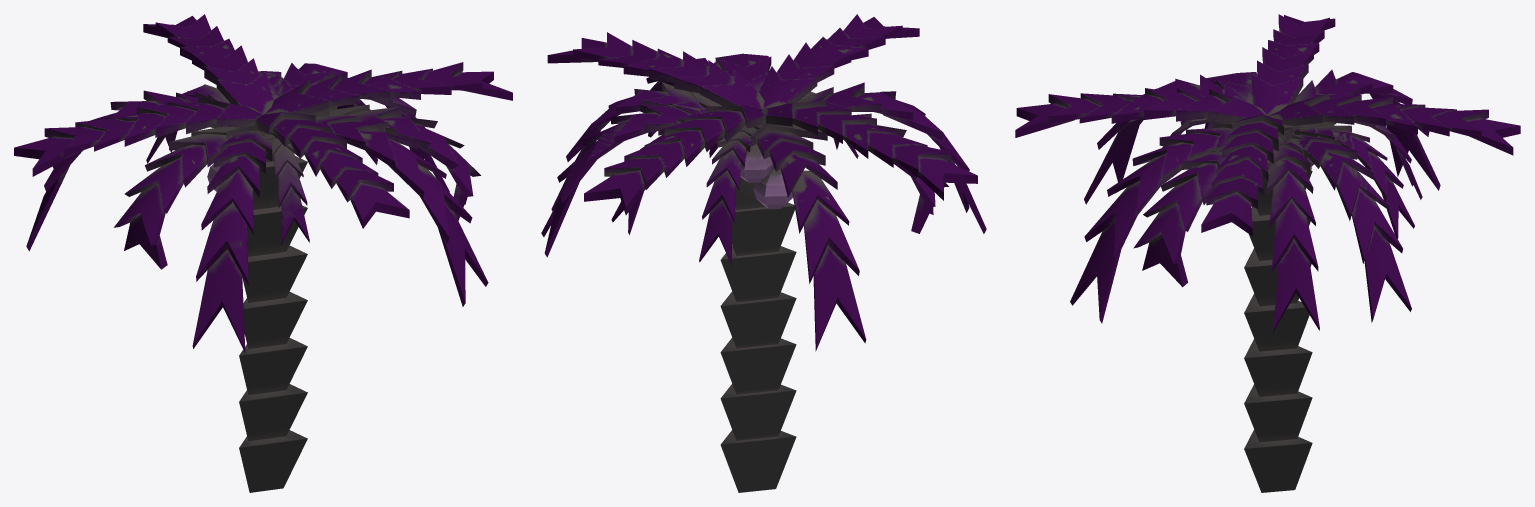
The model's file is palmtree.glb.
The picture shows the model from 3 angles, left to right: view 1: azimuth 30°, elevation 25°; view 2: azimuth 150°, elevation 25°; view 3: azimuth 270°, elevation 25°; orthographic projection.
Parts seen in each view (by area): view 1: palmtree; view 2: palmtree; view 3: palmtree.
Part boxes in pixels (x1,y1,x2,y2): palmtree: (14,14,512,492); palmtree: (541,14,986,492); palmtree: (1015,14,1520,492).
Size of the model in its own units: 5 by 4.2 by 5.
Materials: 1 (1 with a texture image).
